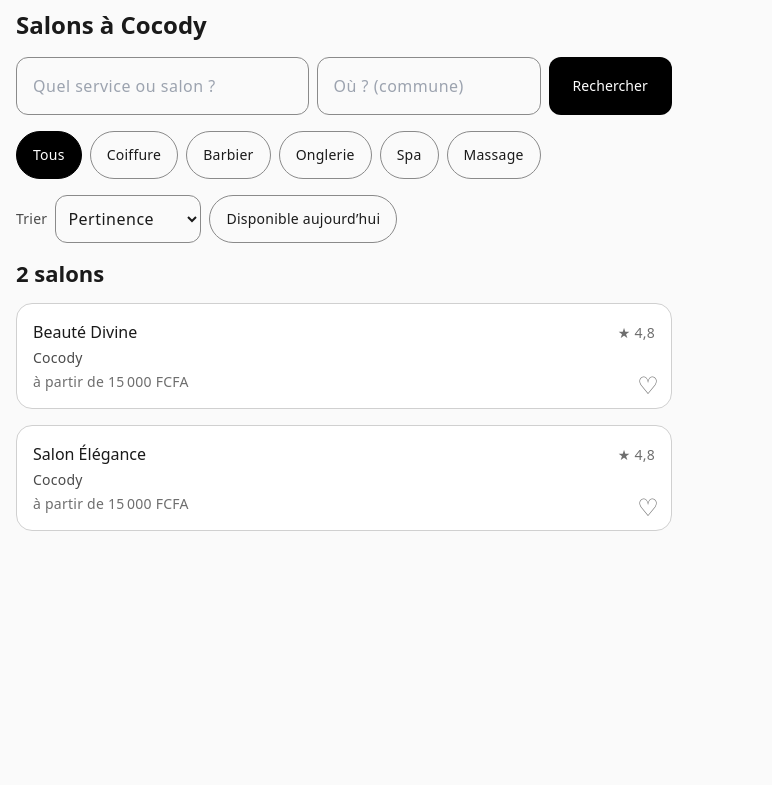
Test: B5.4 — the search ♥ says what it did › « Annuler » writes the opposite: the heart is empty again, the toast gone
The image size is (772, 785).
Click the button named "Ajouter Beauté Divine aux favoris" at (648, 385), box [624,361,672,409]
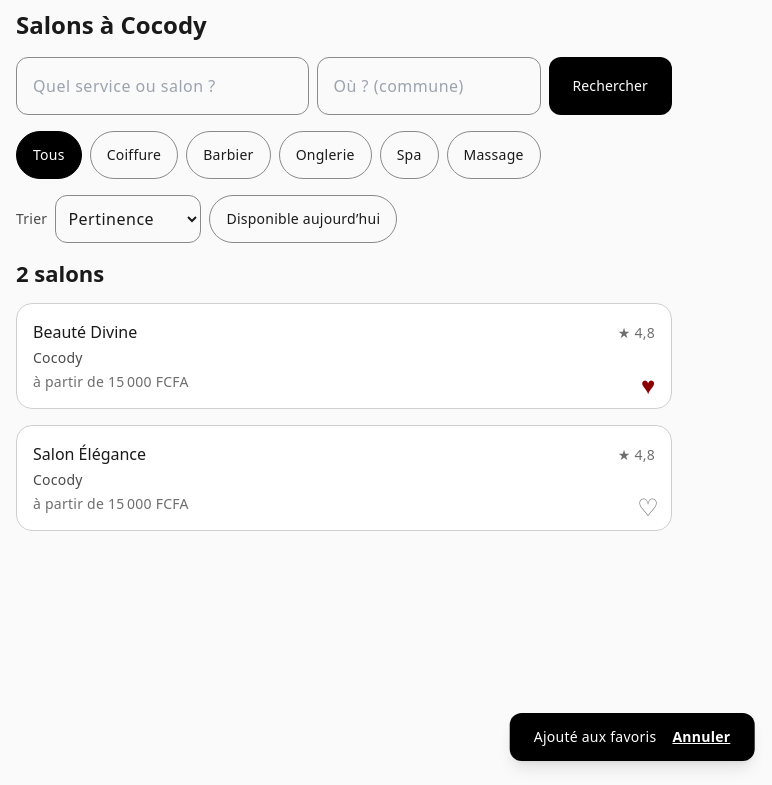
Expected: the text "Ajouté aux favoris" is shown, [534,727,656,746]
Click the button "Annuler" at (701, 737), box [672,713,730,761]
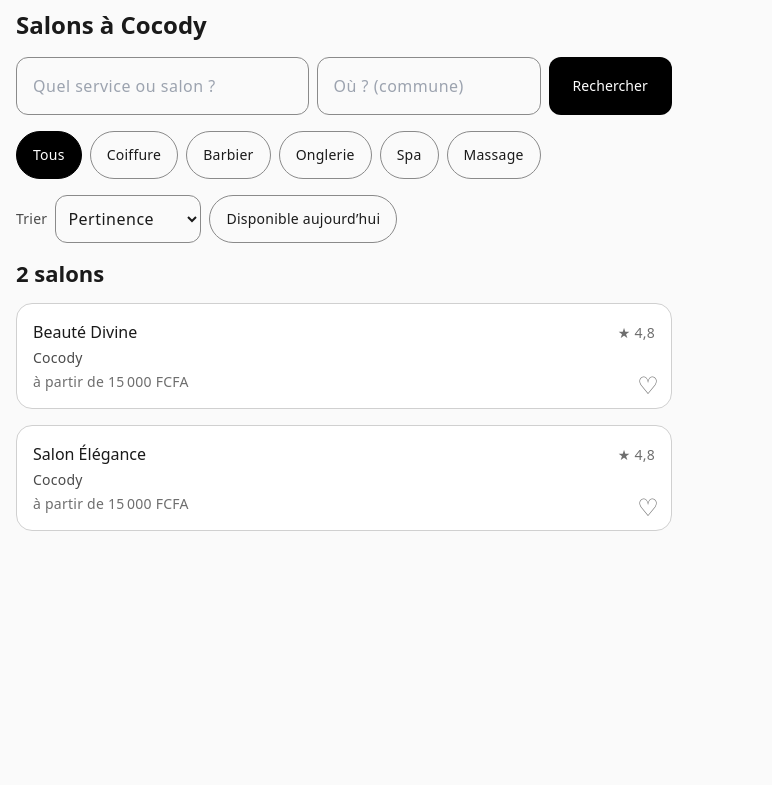
Expected: the text "Ajouté aux favoris" is gone
Expected: the button "Annuler" is gone
